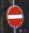No entry: (5, 5, 24, 28)
